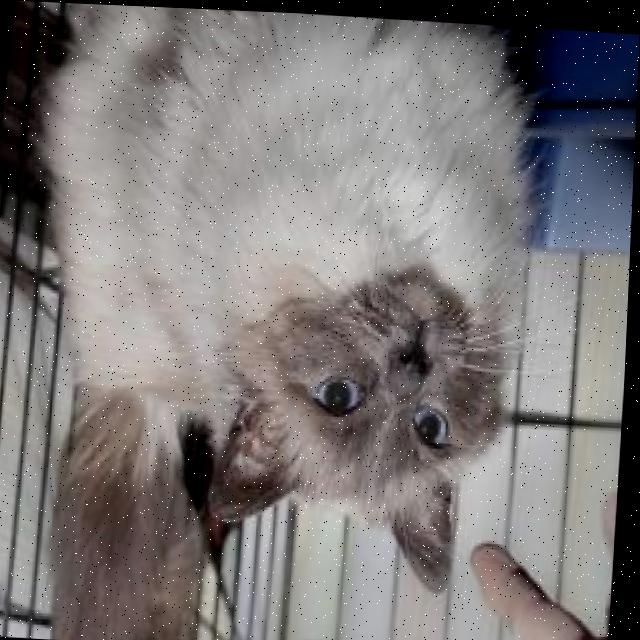Birman: (3, 1, 544, 640)
